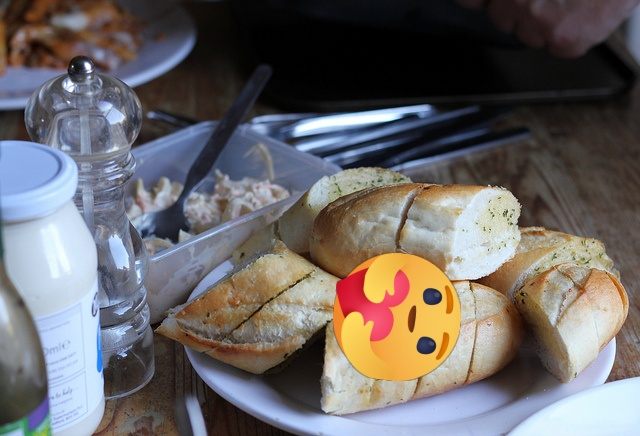care: (333, 253, 461, 381)
